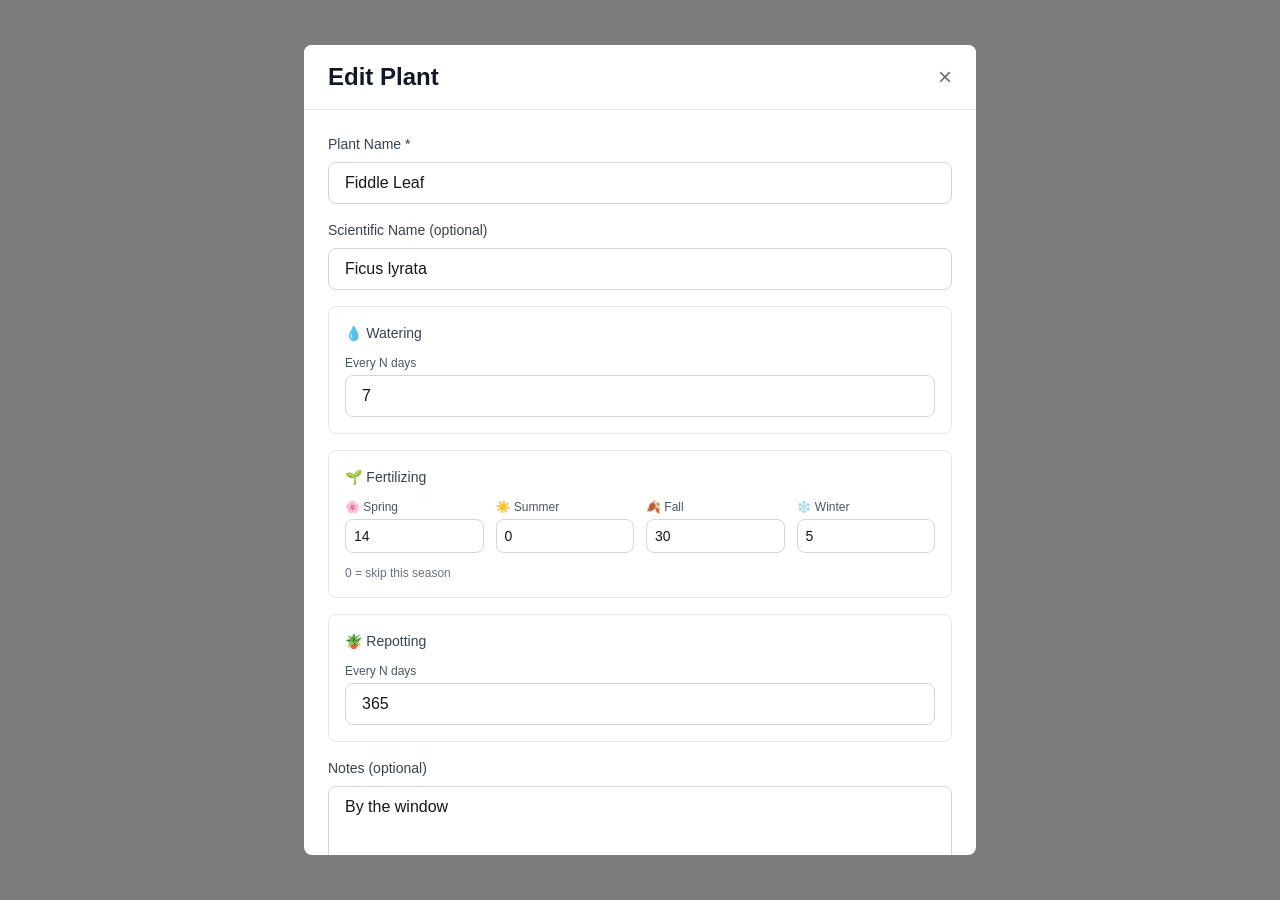
Test: EditPlantModal › requires a name before saving
This screenshot has width=1280, height=900.
Clear the field showing "Fiddle Leaf" below "Plant Name *": point(640, 183) left=328, top=162, right=952, bottom=204
(page scrolled)
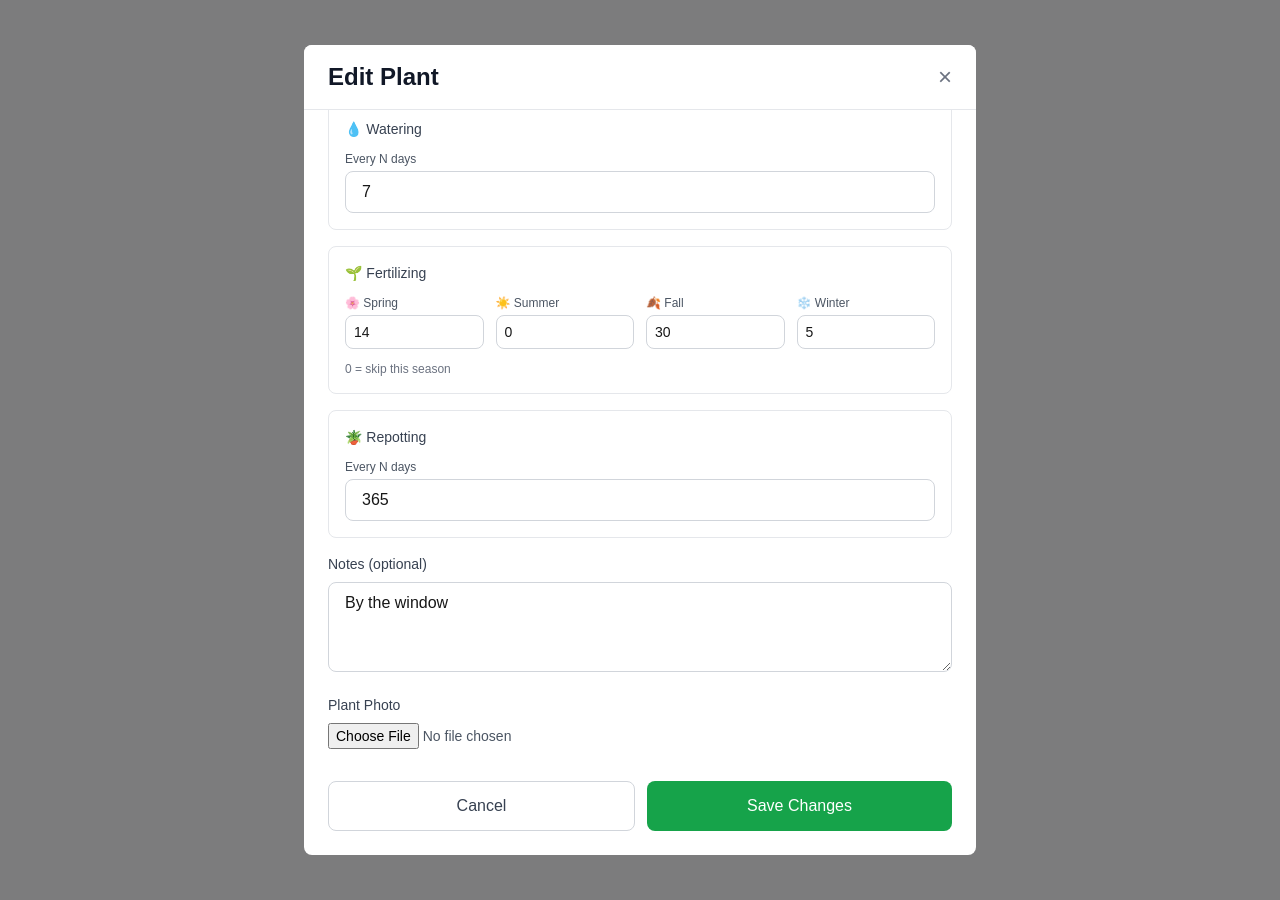
Click the button "Save Changes": point(800, 806) left=647, top=781, right=952, bottom=831
(page scrolled)
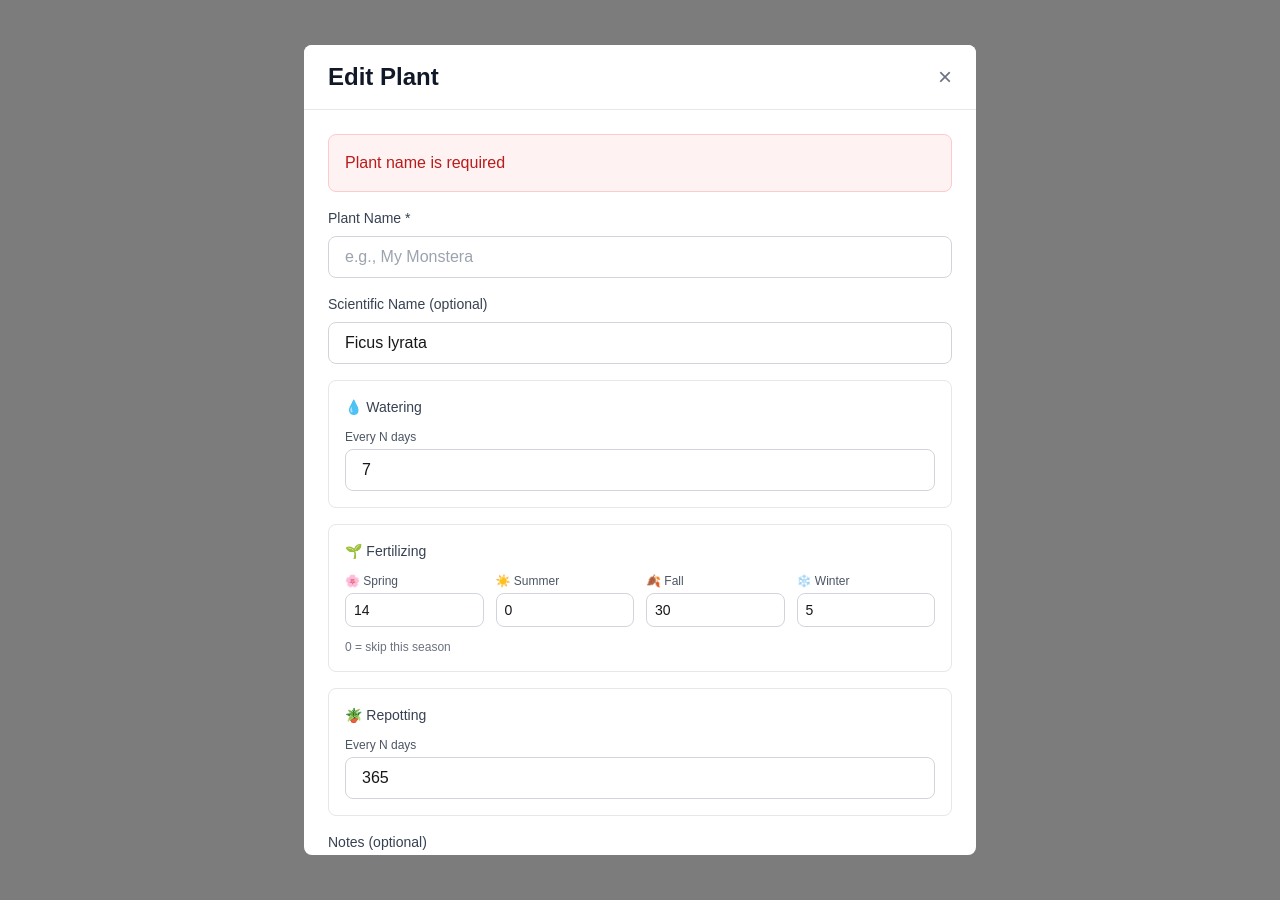
Check: the text "Plant name is required" is shown, box left=328, top=134, right=952, bottom=192
